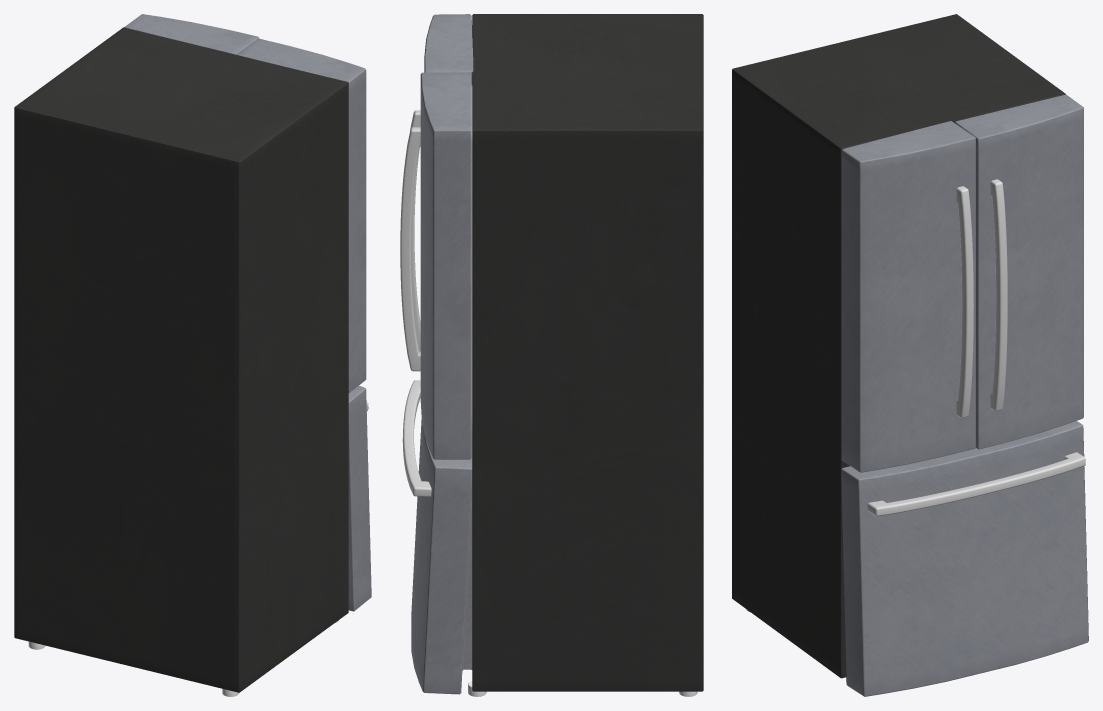
The model's file is fridge.glb.
3 renders of one model, left to right at view 1: azimuth 30°, elevation 25°; view 2: azimuth 150°, elevation 25°; view 3: azimuth 270°, elevation 25°, orthographic. The views are drawn at different scales.
Parts seen in each view (by area): view 1: Fridge_01, Door_Fridge_L, Drawer_Fridge, Door_Fridge_R; view 2: Fridge_01, Door_Fridge_R, Drawer_Fridge, Handle_Fridge_002, Door_Fridge_L, Handle_Fridge, Handle_Fridge_001, Door_Fridge_Inside_R; view 3: Fridge_01, Drawer_Fridge, Door_Fridge_L, Door_Fridge_R, Handle_Fridge_001, Handle_Fridge_002, Handle_Fridge.
Part boxes in pixels (bbox=[...]): Fridge_01: bbox=[14, 27, 348, 692]; Door_Fridge_L: bbox=[238, 38, 366, 392]; Drawer_Fridge: bbox=[348, 385, 371, 611]; Door_Fridge_R: bbox=[124, 14, 259, 54]; Fridge_01: bbox=[472, 14, 703, 691]; Door_Fridge_R: bbox=[420, 72, 471, 459]; Drawer_Fridge: bbox=[411, 419, 472, 694]; Handle_Fridge_002: bbox=[400, 127, 420, 371]; Door_Fridge_L: bbox=[424, 14, 473, 84]; Handle_Fridge: bbox=[402, 380, 431, 496]; Handle_Fridge_001: bbox=[410, 110, 420, 351]; Door_Fridge_Inside_R: bbox=[471, 84, 472, 436]; Fridge_01: bbox=[732, 14, 1065, 678]; Drawer_Fridge: bbox=[841, 421, 1088, 696]; Door_Fridge_L: bbox=[841, 121, 975, 472]; Door_Fridge_R: bbox=[955, 94, 1083, 449]; Handle_Fridge_001: bbox=[956, 186, 973, 417]; Handle_Fridge_002: bbox=[990, 179, 1007, 411]; Handle_Fridge: bbox=[867, 452, 1085, 516].
Bounding box in the file's own units: 1.52 × 2.5 × 1.5.
Materials: 6 (2 with a texture image).
